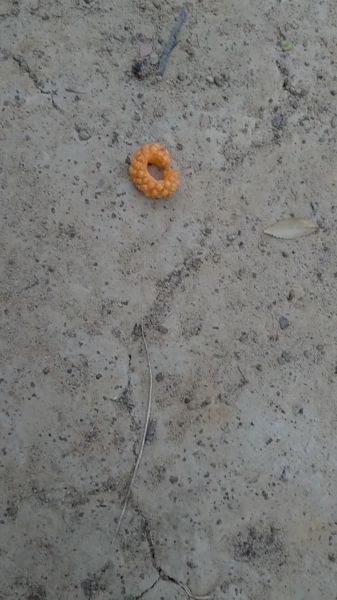eggs: (129, 134, 182, 212)
